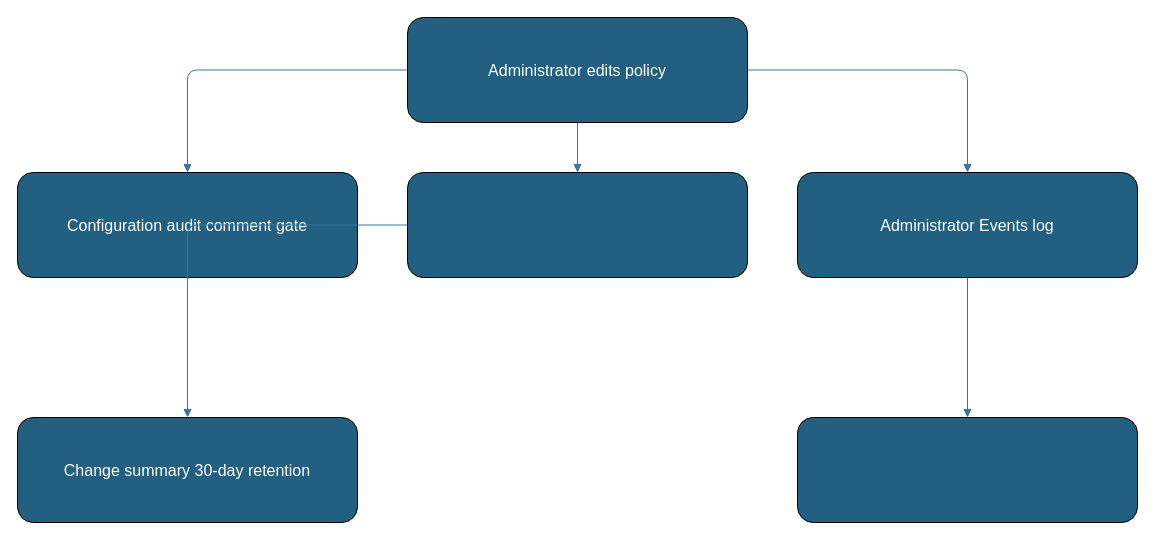
This 1155x540 diagram has some shape labels left out. The box of each missing label's shape, as (x1, y1, x2, y2) in pixels:
Auditor review: (796, 416, 1138, 522)
Object change commit: (406, 172, 748, 278)
